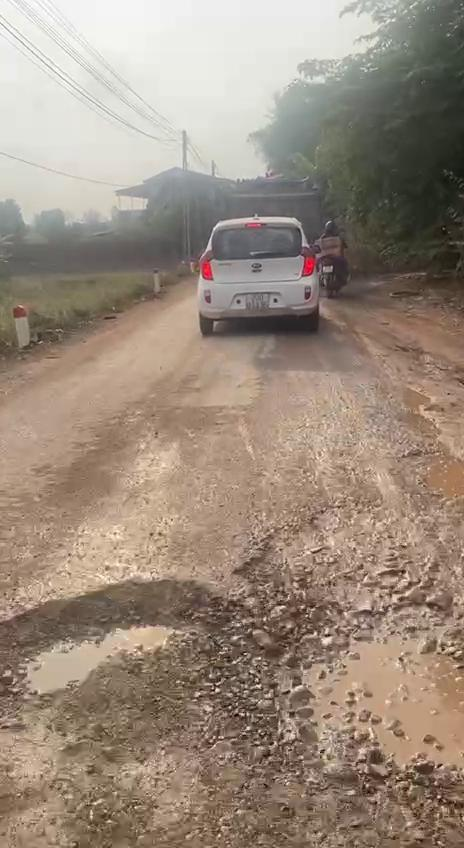pothole: (220, 494, 464, 813), (3, 566, 262, 726), (396, 392, 464, 504)
